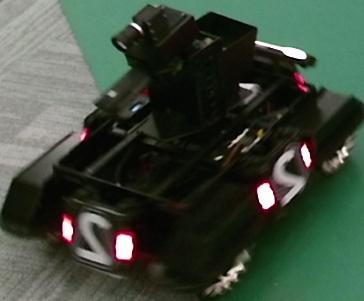armor_2: (256, 145, 312, 209), (61, 218, 135, 260)
